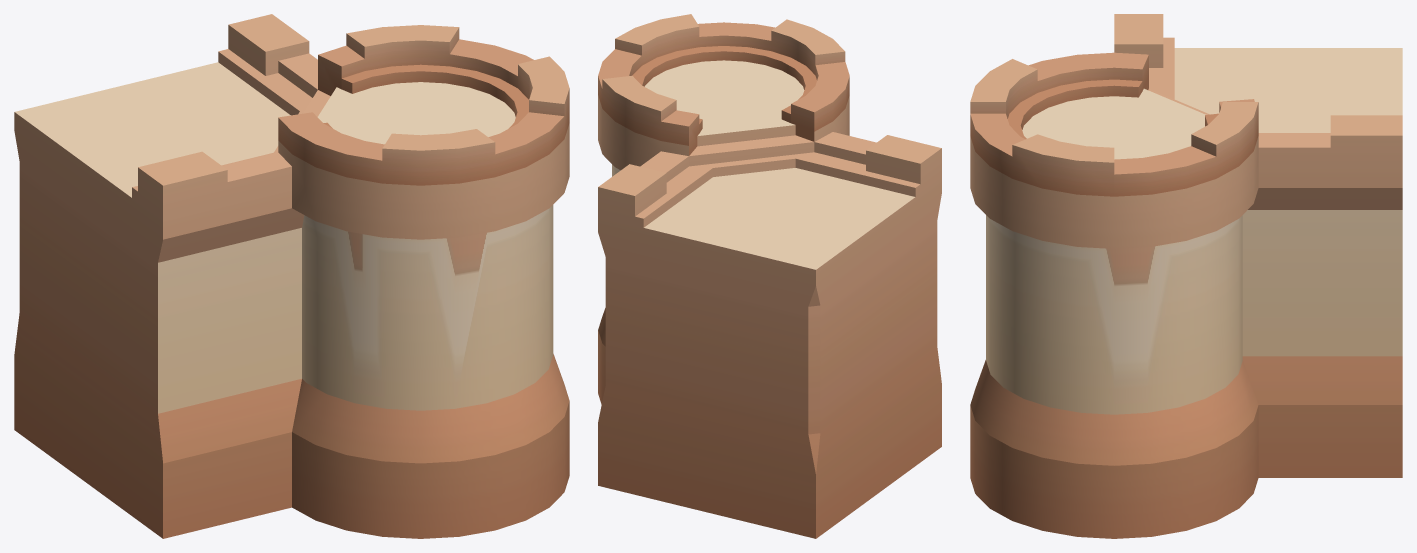
The model's file is kenney-castle-wall-corner-half-tower.glb.
The picture shows the model from 3 angles, left to right: view 1: azimuth 30°, elevation 25°; view 2: azimuth 150°, elevation 25°; view 3: azimuth 270°, elevation 25°; orthographic projection. The views are drawn at different scales.
Visible parts, largest first — view 1: wall-corner-half-tower; view 2: wall-corner-half-tower; view 3: wall-corner-half-tower.
Boxes of the visible parts, left/top/right/bottom form: wall-corner-half-tower: left=14, top=14, right=569, bottom=538; wall-corner-half-tower: left=598, top=14, right=941, bottom=538; wall-corner-half-tower: left=970, top=14, right=1402, bottom=538.
Size of the model in its own units: 1.5 by 1.44 by 1.5.
Materials: 1 (1 with a texture image).
